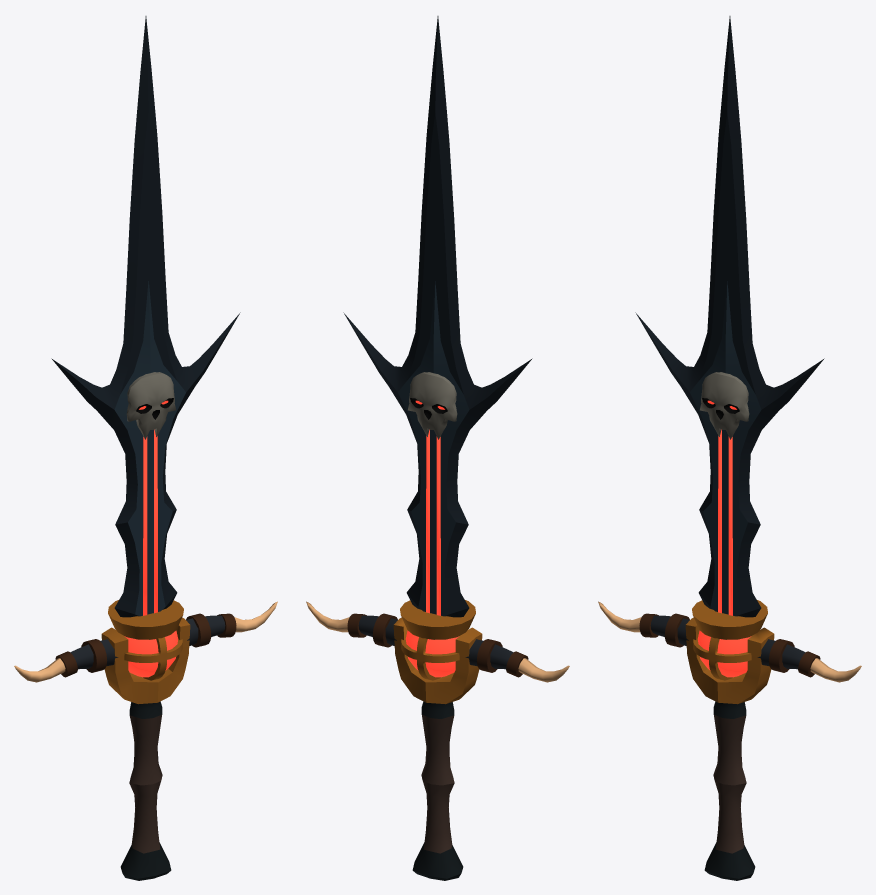
Rendered from PlayerSword.fbx.
3 views of the same model, side by side, from view 1: azimuth 30°, elevation 25°; view 2: azimuth 150°, elevation 25°; view 3: azimuth 330°, elevation 25° (orthographic).
Parts seen in each view (by area): view 1: PlayerSword; view 2: PlayerSword; view 3: PlayerSword.
Boxes of the visible parts, <box> form: PlayerSword: <box>14,16,277,880</box>; PlayerSword: <box>306,16,569,880</box>; PlayerSword: <box>598,16,861,880</box>.
Bounding box in the file's own units: 50.37 × 157 × 12.72.
